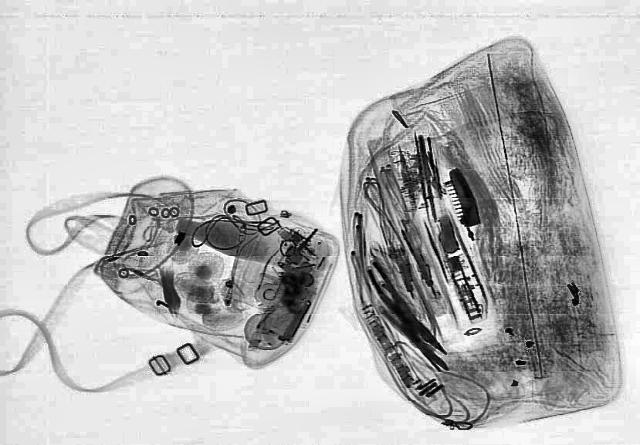Pliers: (357, 260, 427, 338)
